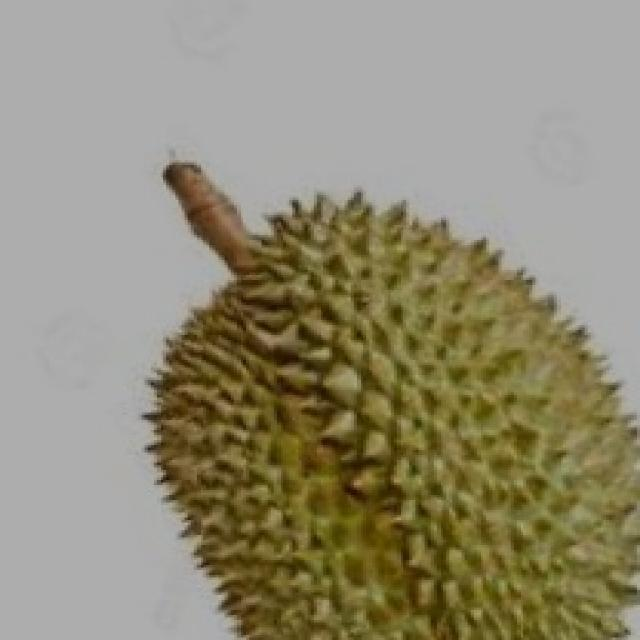fruit: (320, 188, 637, 638), (102, 255, 449, 640)
